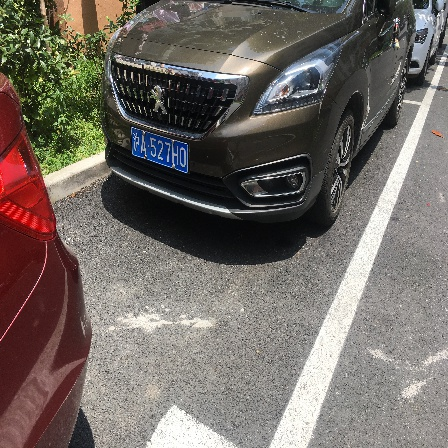plate: (127, 124, 192, 178)
